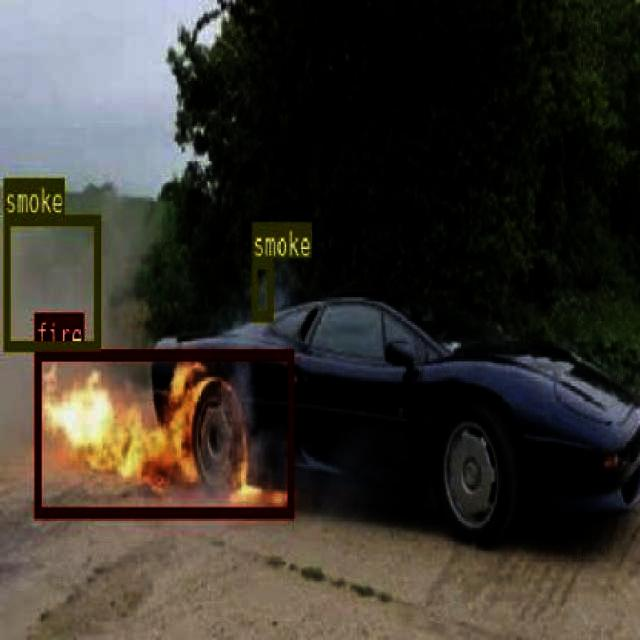fire: (34, 350, 292, 516)
smoke: (3, 214, 99, 348), (250, 258, 272, 320)
